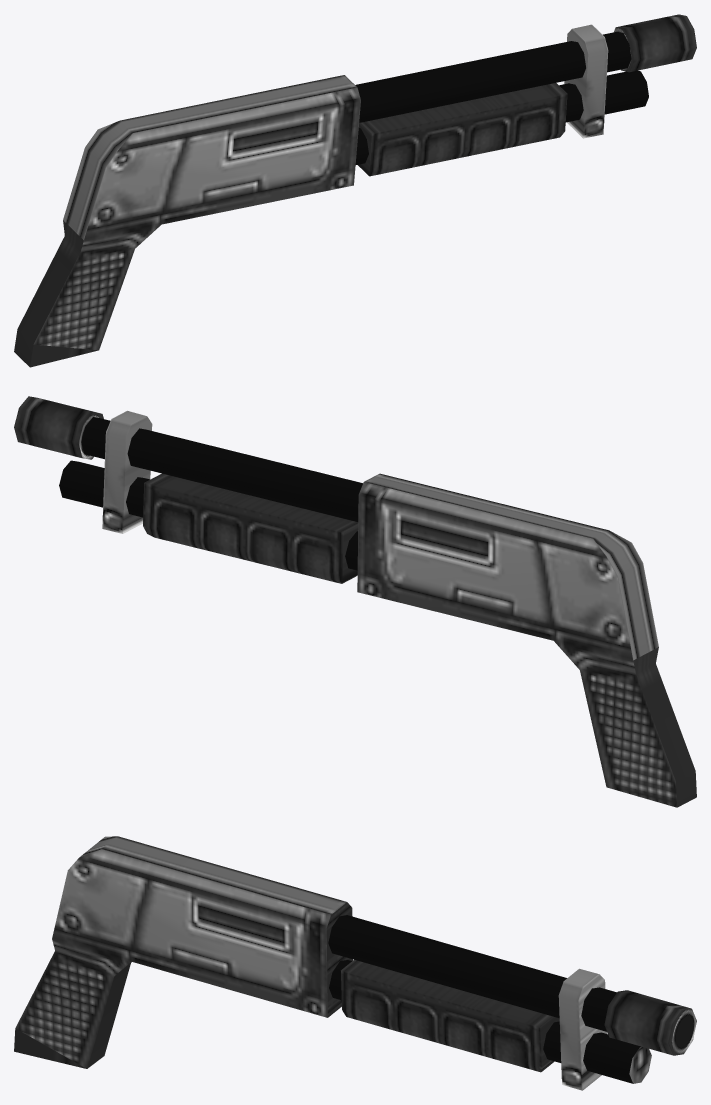
Rendered from p_smallshotgun.glb.
3 renders of one model, top to bottom at view 1: azimuth 30°, elevation 25°; view 2: azimuth 150°, elevation 25°; view 3: azimuth 330°, elevation 25°, orthographic. The views are drawn at different scales.
Parts seen in each view (by area): view 1: p_smallshotgun; view 2: p_smallshotgun; view 3: p_smallshotgun.
Part boxes in pixels (bbox=[...]): p_smallshotgun: bbox=[14, 14, 696, 367]; p_smallshotgun: bbox=[14, 396, 696, 807]; p_smallshotgun: bbox=[14, 836, 696, 1090].
Bounding box in the file's own units: 25.59 × 8.45 × 3.08.
Materials: 2 (2 with a texture image).
